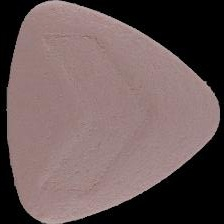0173-0737: (0, 0, 224, 224)
